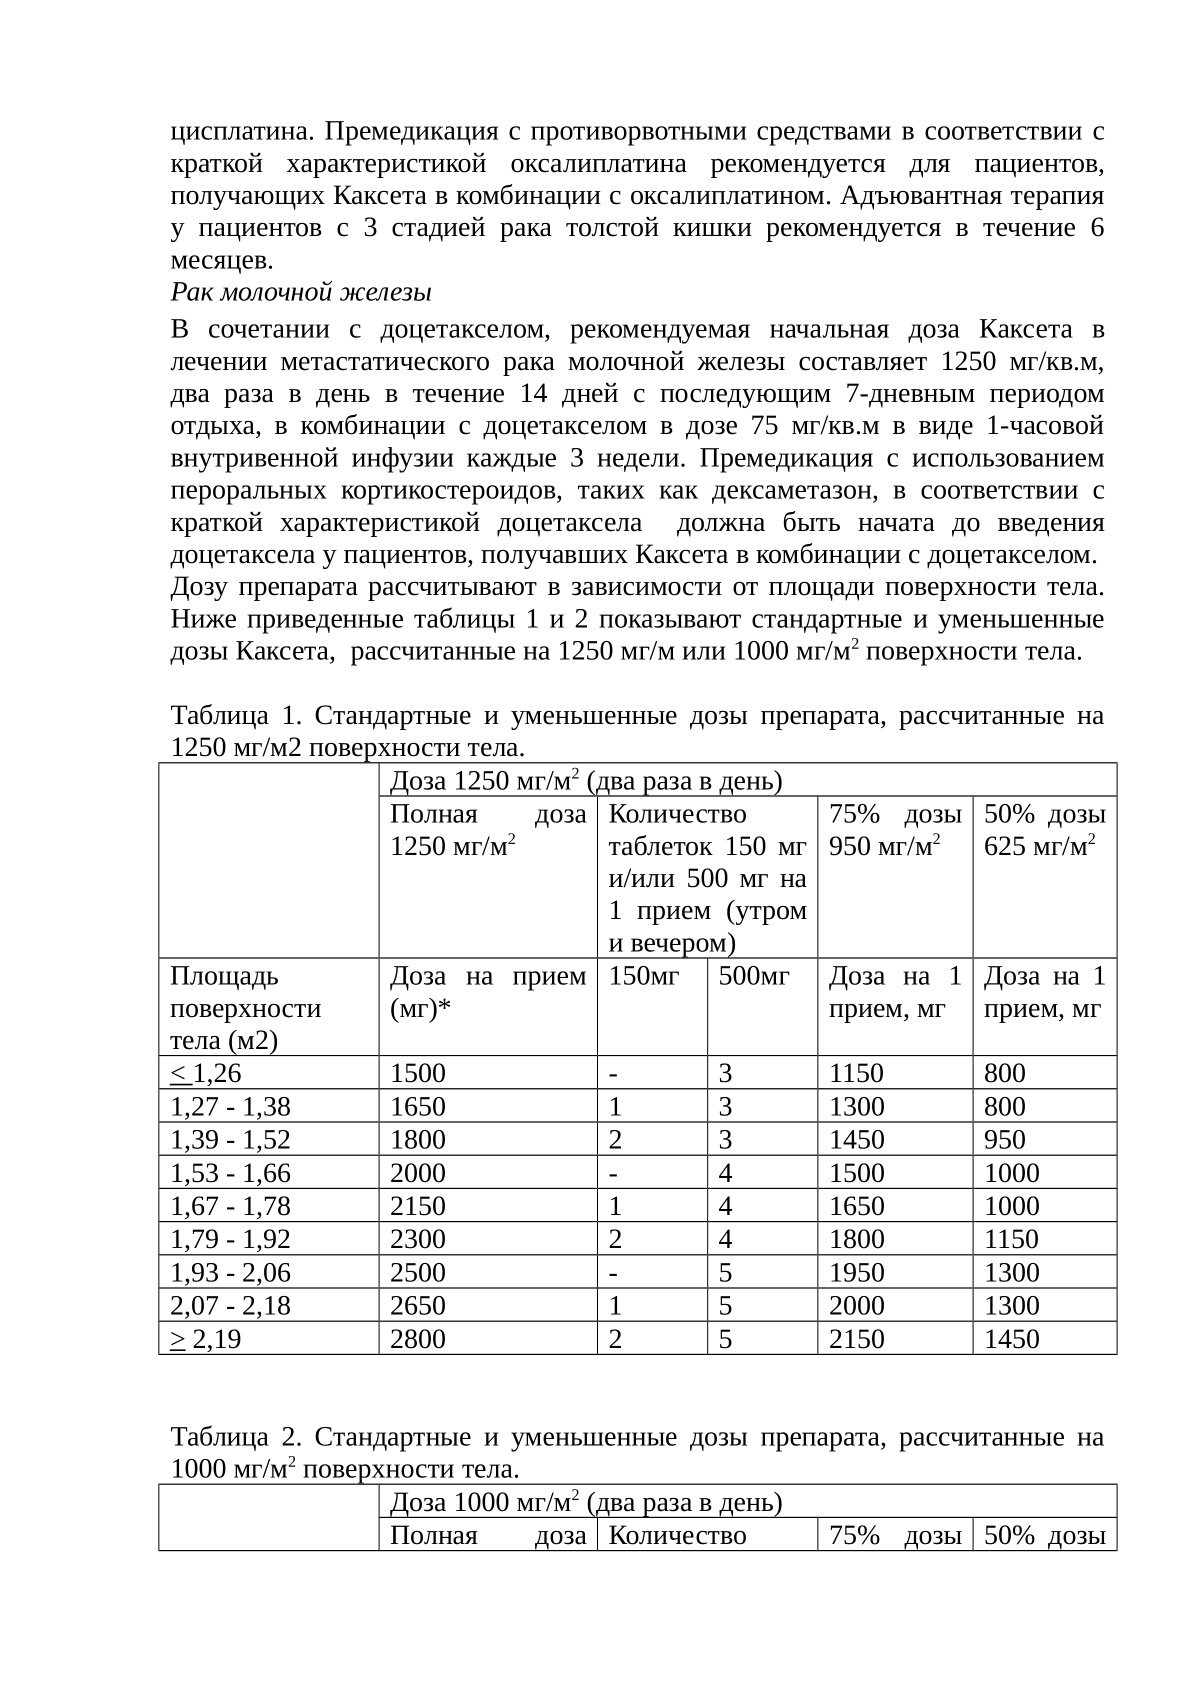merged_cells: (156, 760, 1119, 1358), (157, 1482, 1119, 1551)
